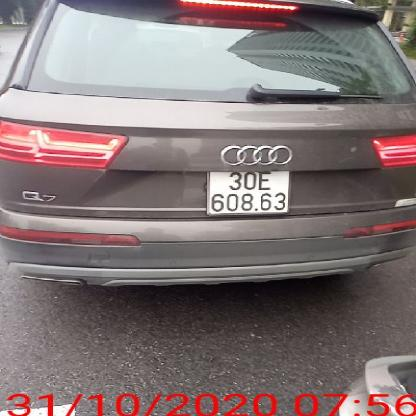biensoxe: (206, 164, 294, 221)
